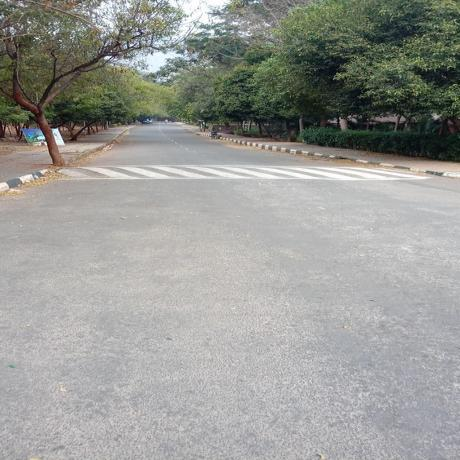Speed Bump: (44, 164, 428, 180)
